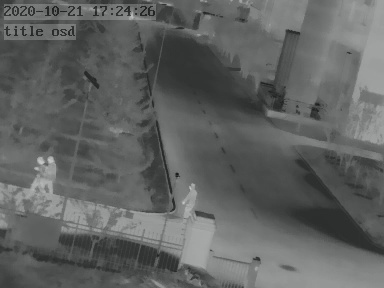person: (42, 155, 60, 192), (182, 182, 198, 216), (32, 157, 45, 193)
